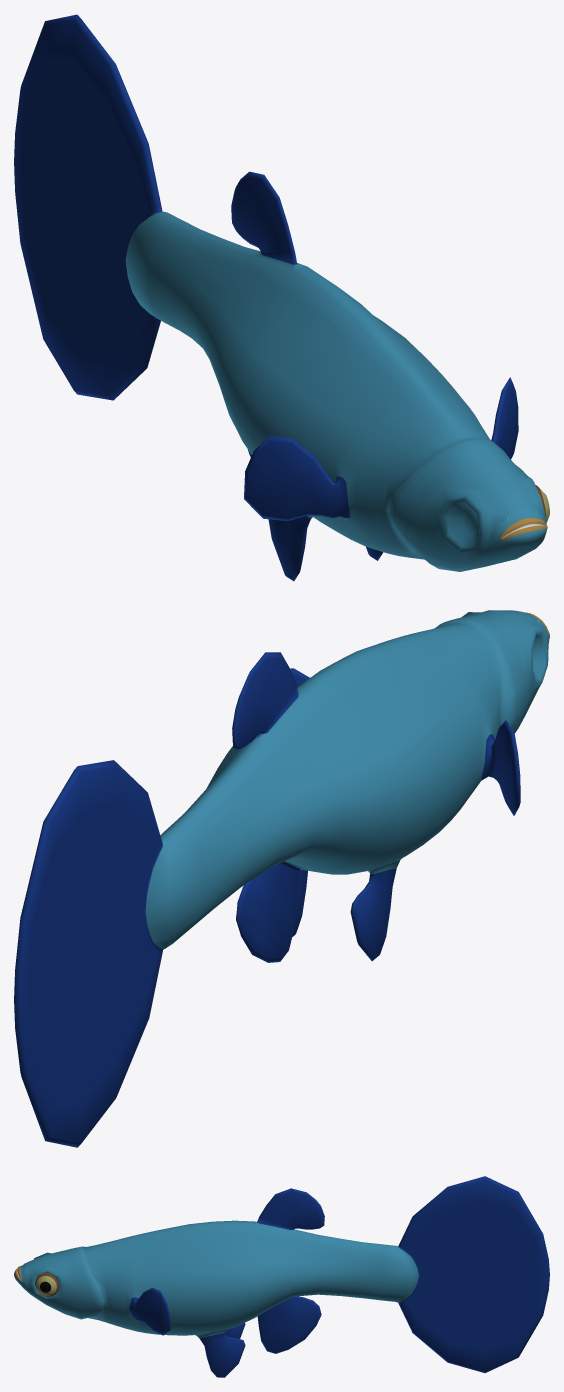
The model's file is guppy.obj.
The picture shows the model from 3 angles, top to bottom: view 1: azimuth 30°, elevation 25°; view 2: azimuth 150°, elevation 25°; view 3: azimuth 270°, elevation 25°; orthographic projection. The views are drawn at different scales.
Visible parts, largest first — view 1: guppy; view 2: guppy; view 3: guppy, eye.
Part boxes in pixels (x1,y1,x2,y2): guppy: (14,14,547,581); guppy: (14,610,549,1147); guppy: (14,1176,549,1377); eye: (35,1273,59,1296).
Bounding box in the file's own units: 0.0184 × 0.0244 × 0.0601.
